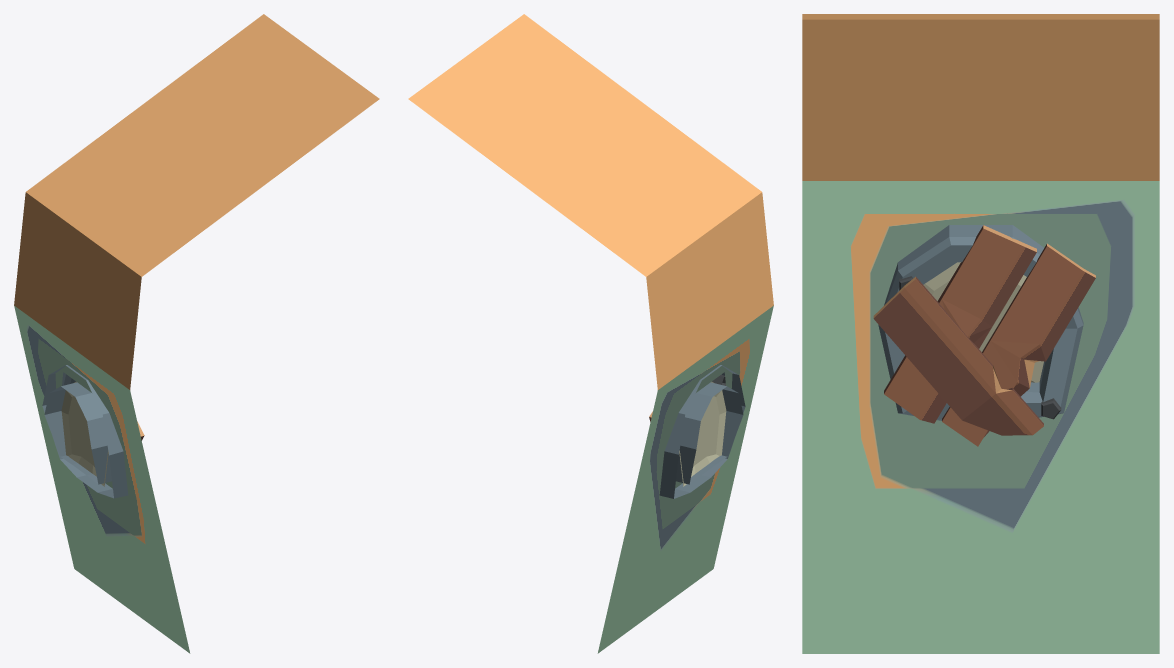
Rendered from Lateral5.FBX.
3 renders of one model, left to right at view 1: azimuth 30°, elevation 25°; view 2: azimuth 150°, elevation 25°; view 3: azimuth 270°, elevation 25°, orthographic. The views are drawn at different scales.
Parts seen in each view (by area): view 1: Laterales04; view 2: Laterales04; view 3: Laterales04.
Part boxes in pixels (<box>): Laterales04: <box>14,14,379,653</box>; Laterales04: <box>408,14,773,653</box>; Laterales04: <box>802,14,1159,653</box>.
Size of the model in its own units: 379 by 300 by 725.
1 material, 1 textured.
